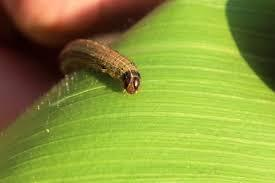fallarmy_worm: (53, 34, 153, 101)
